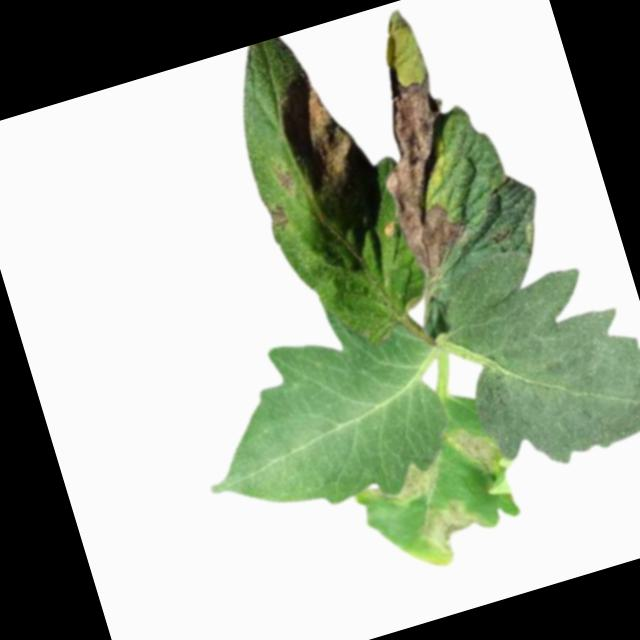Late_blight: (354, 55, 489, 277), (270, 64, 364, 204), (358, 451, 457, 518), (414, 490, 497, 566), (444, 419, 506, 490), (265, 200, 292, 234), (276, 167, 299, 195)
healthy: (177, 303, 471, 544), (422, 222, 640, 489)
